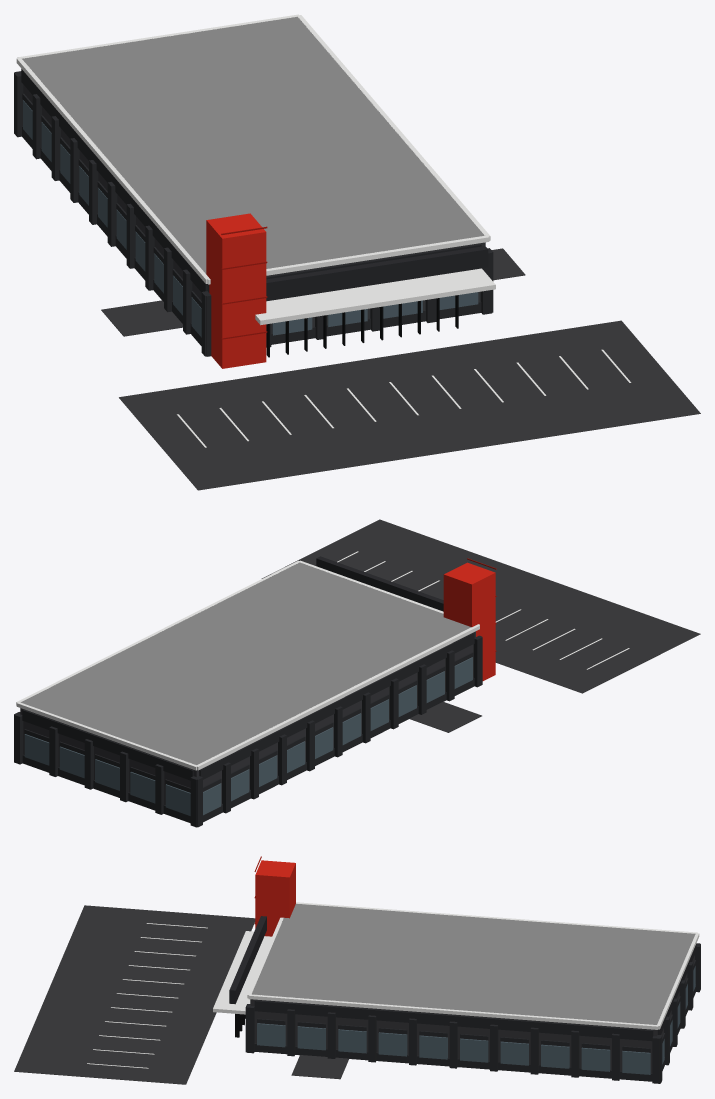
File: mcd1.glb
The picture shows the model from 3 angles, top to bottom: view 1: azimuth 30°, elevation 25°; view 2: azimuth 150°, elevation 25°; view 3: azimuth 270°, elevation 25°; orthographic projection. The views are drawn at different scales.
Visible parts, largest first — view 1: mcd1_lod0; view 2: mcd1_lod0; view 3: mcd1_lod0.
Part boxes in pixels (x1,y1,x2,y2): mcd1_lod0: (14, 14, 700, 490); mcd1_lod0: (14, 519, 700, 827); mcd1_lod0: (14, 856, 700, 1084).
Size of what is drawn, in the model's own units: 33.97 by 8.94 by 55.02.
